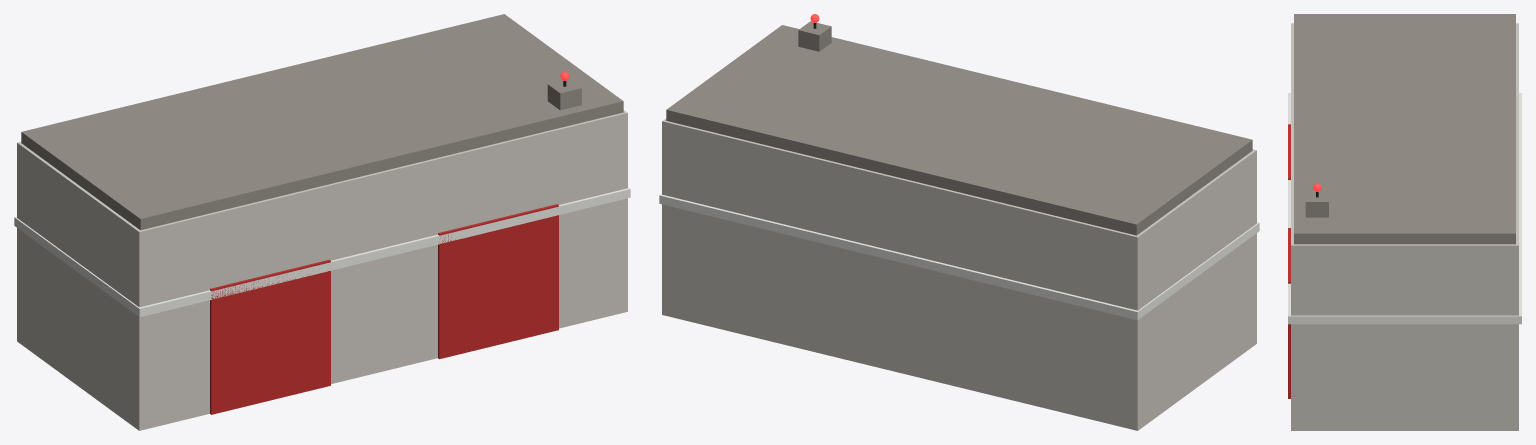
Rendered from fire_station.glb.
3 views of the same model, side by side, from view 1: azimuth 30°, elevation 25°; view 2: azimuth 150°, elevation 25°; view 3: azimuth 270°, elevation 25° (orthographic). The views are drawn at different scales.
Visible parts, largest first — view 1: FireStation; view 2: FireStation; view 3: FireStation.
Part boxes in pixels (box(x1,y1,x2,y2)): FireStation: box(14, 14, 630, 430); FireStation: box(659, 14, 1259, 430); FireStation: box(1288, 14, 1521, 430).
Bounding box in the file's own units: 1.81 × 0.85 × 0.8.
